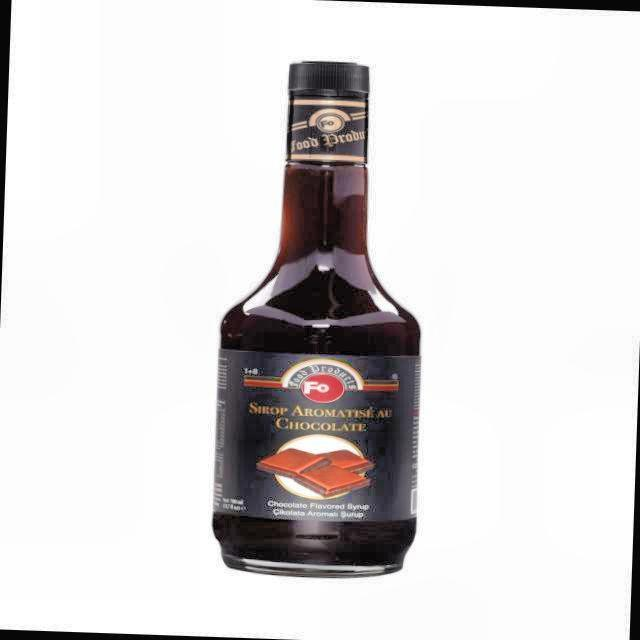glass: (210, 61, 422, 579)
